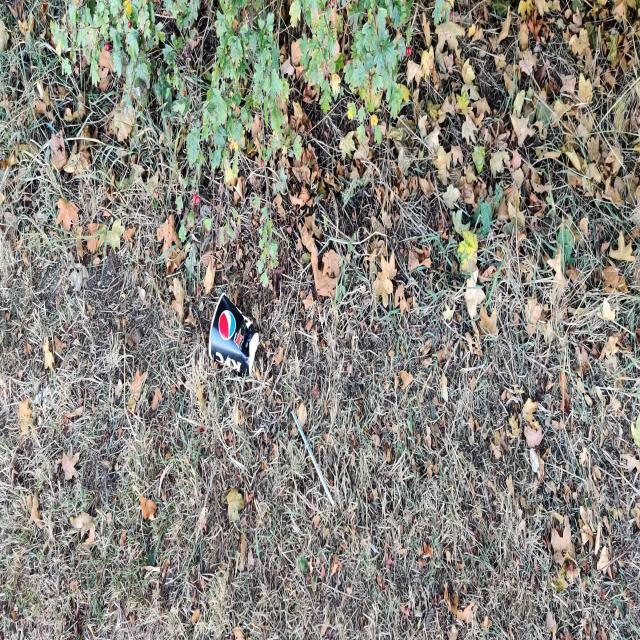litter: (208, 292, 259, 378)
